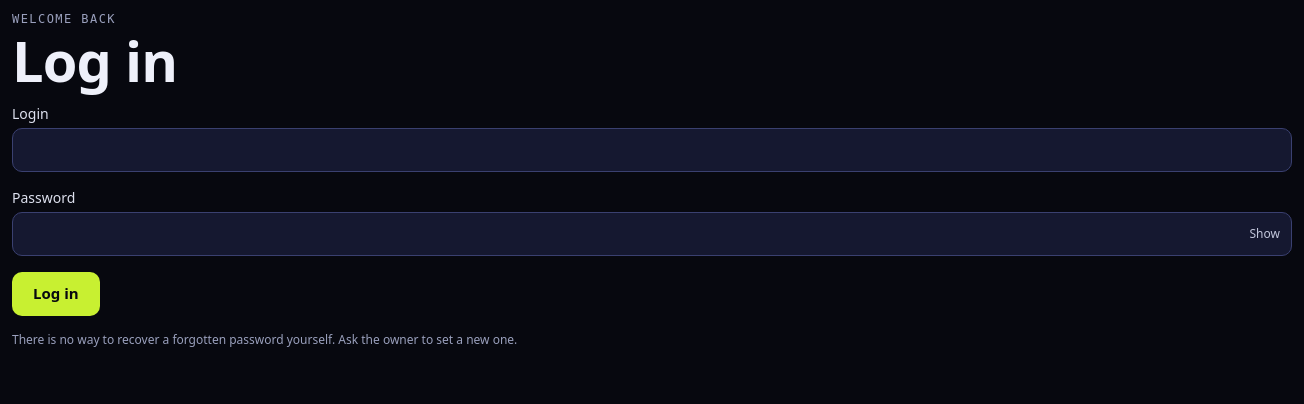
Test case: LoginForm › empty fields are client-side errors, no request
Click the button "Log in" at coordinates (56, 294), box [12,272,100,316]
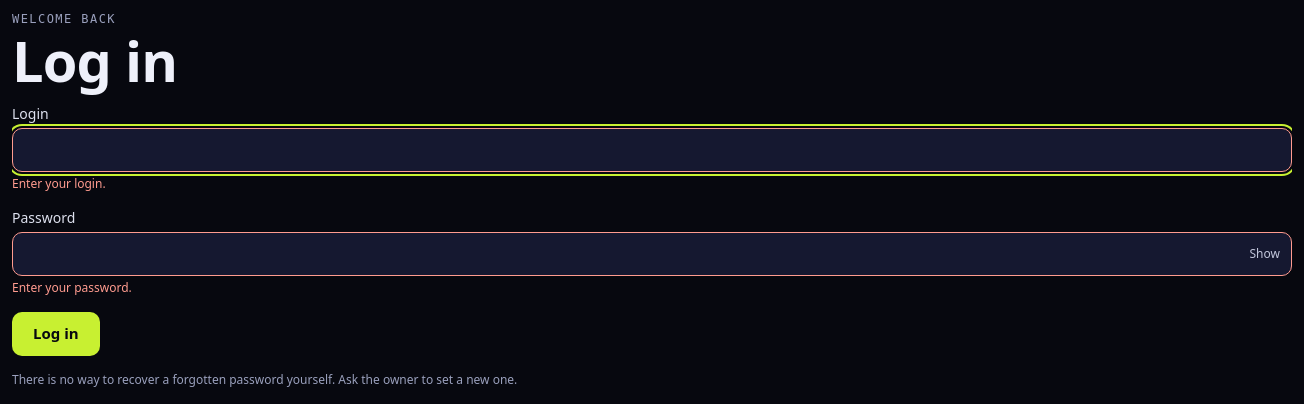
Now the messages read "Enter your login.", "Enter your password.", in this order, box [12,175,106,192]; [12,279,132,296]
